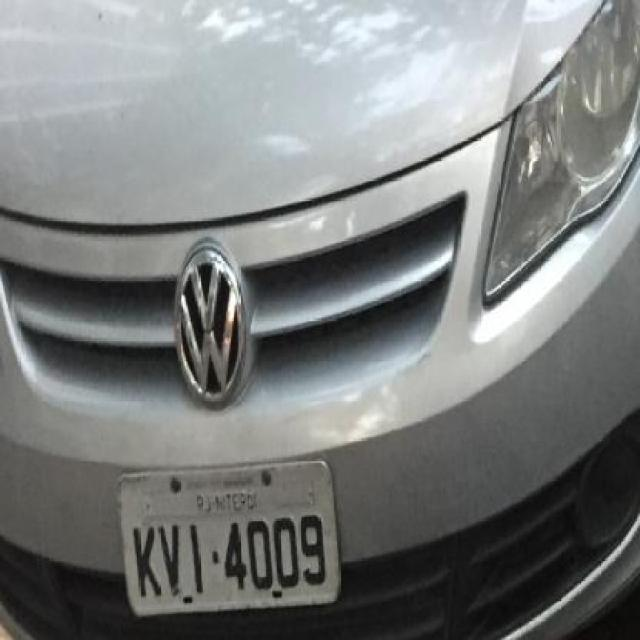old_plate: (112, 455, 346, 623)
